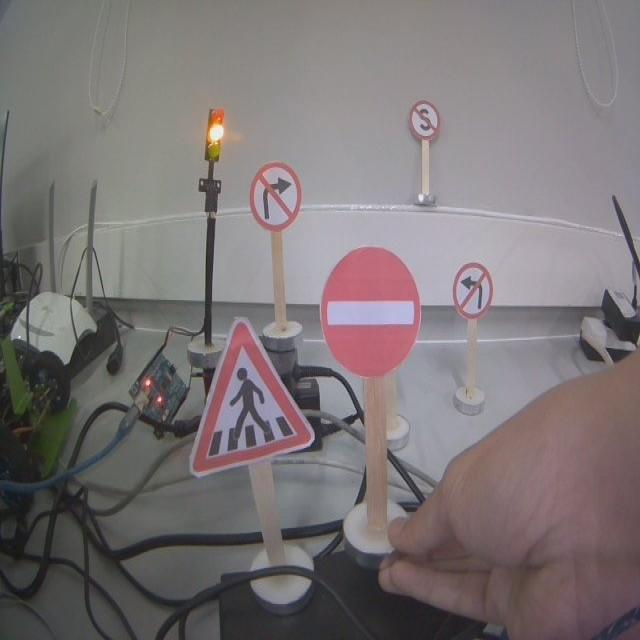Dilarang Belok Kanan: (250, 163, 301, 229)
Dilarang Belok Kiri: (452, 263, 491, 317)
Dilarang Masuk: (319, 246, 421, 378)
Lampu Kuning: (205, 110, 223, 162)
Rambu Berhenti: (408, 100, 439, 140)
Rambu Penyebrangan: (188, 317, 314, 476)
